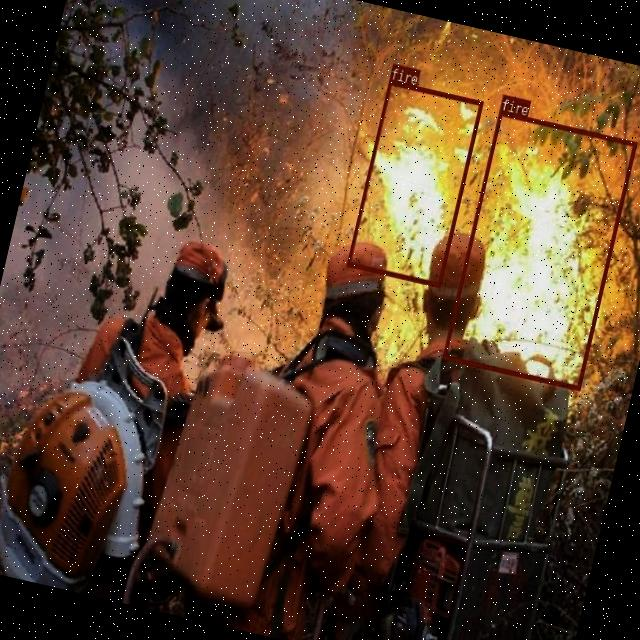fire: (440, 110, 636, 390), (346, 78, 482, 286)
